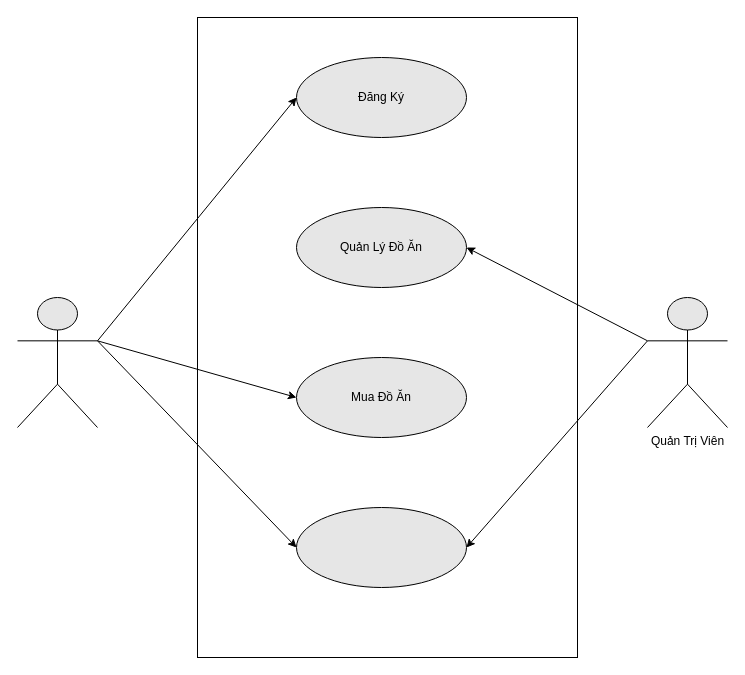
Some shapes in this 745 by 675 pixel diagram are drawn without their labels. Each missing label, with the centre of its shape:
"Người Mua" belongs at (57,362).
"Xem Hóa Đơn" belongs at (381,547).
